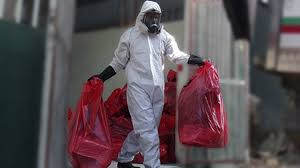with_mask: (139, 4, 166, 36)
